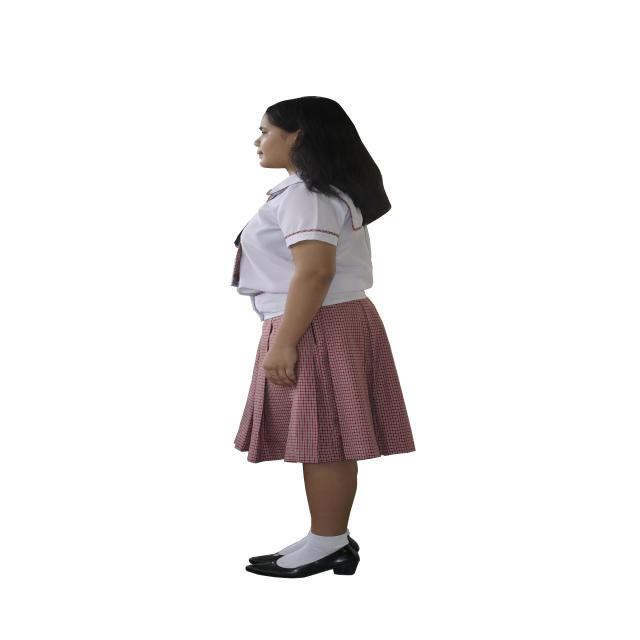id lace: (246, 537, 360, 578)
skirt: (234, 298, 415, 463)
